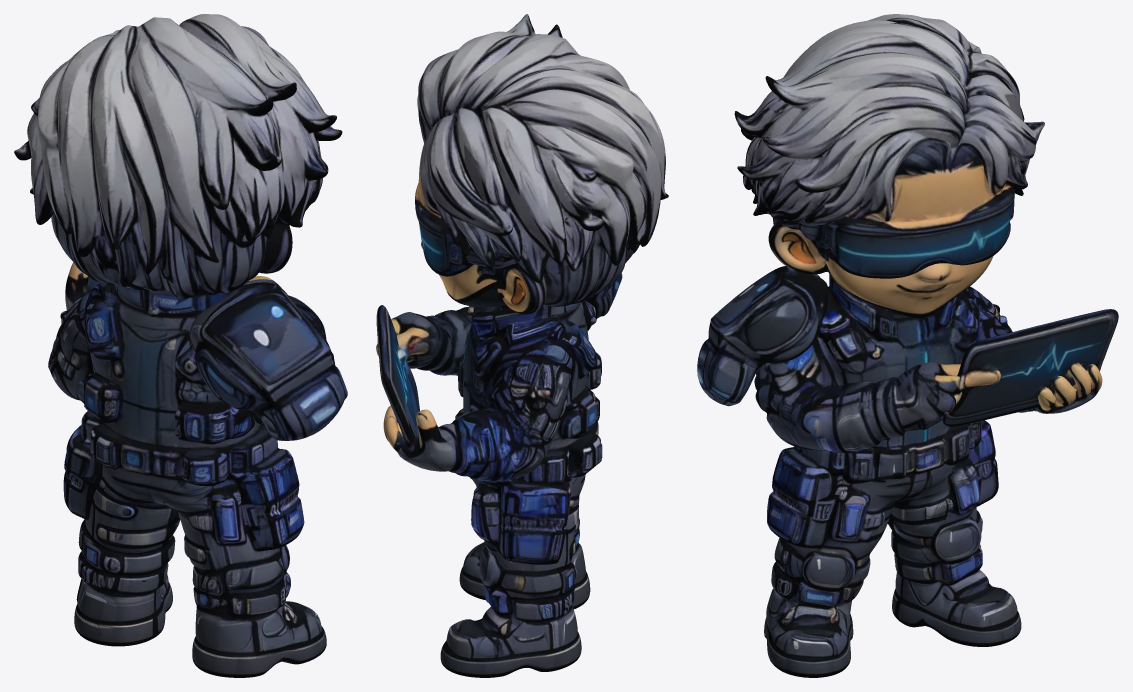
Rendered from digital.glb.
3 renders of one model, left to right at view 1: azimuth 30°, elevation 25°; view 2: azimuth 150°, elevation 25°; view 3: azimuth 270°, elevation 25°, orthographic. The views are drawn at different scales.
Parts seen in each view (by area): view 1: tripo_node_65486ba4-a78d-4db8-a06a-3c4619a4a34c; view 2: tripo_node_65486ba4-a78d-4db8-a06a-3c4619a4a34c; view 3: tripo_node_65486ba4-a78d-4db8-a06a-3c4619a4a34c.
Part boxes in pixels (x1=…): tripo_node_65486ba4-a78d-4db8-a06a-3c4619a4a34c: x1=14, y1=14, x2=347, y2=677; tripo_node_65486ba4-a78d-4db8-a06a-3c4619a4a34c: x1=376, y1=14, x2=668, y2=677; tripo_node_65486ba4-a78d-4db8-a06a-3c4619a4a34c: x1=697, y1=14, x2=1118, y2=677.
Bounding box in the file's own units: 0.4375 × 1 × 0.6356.
Materials: 1 (1 with a texture image).
